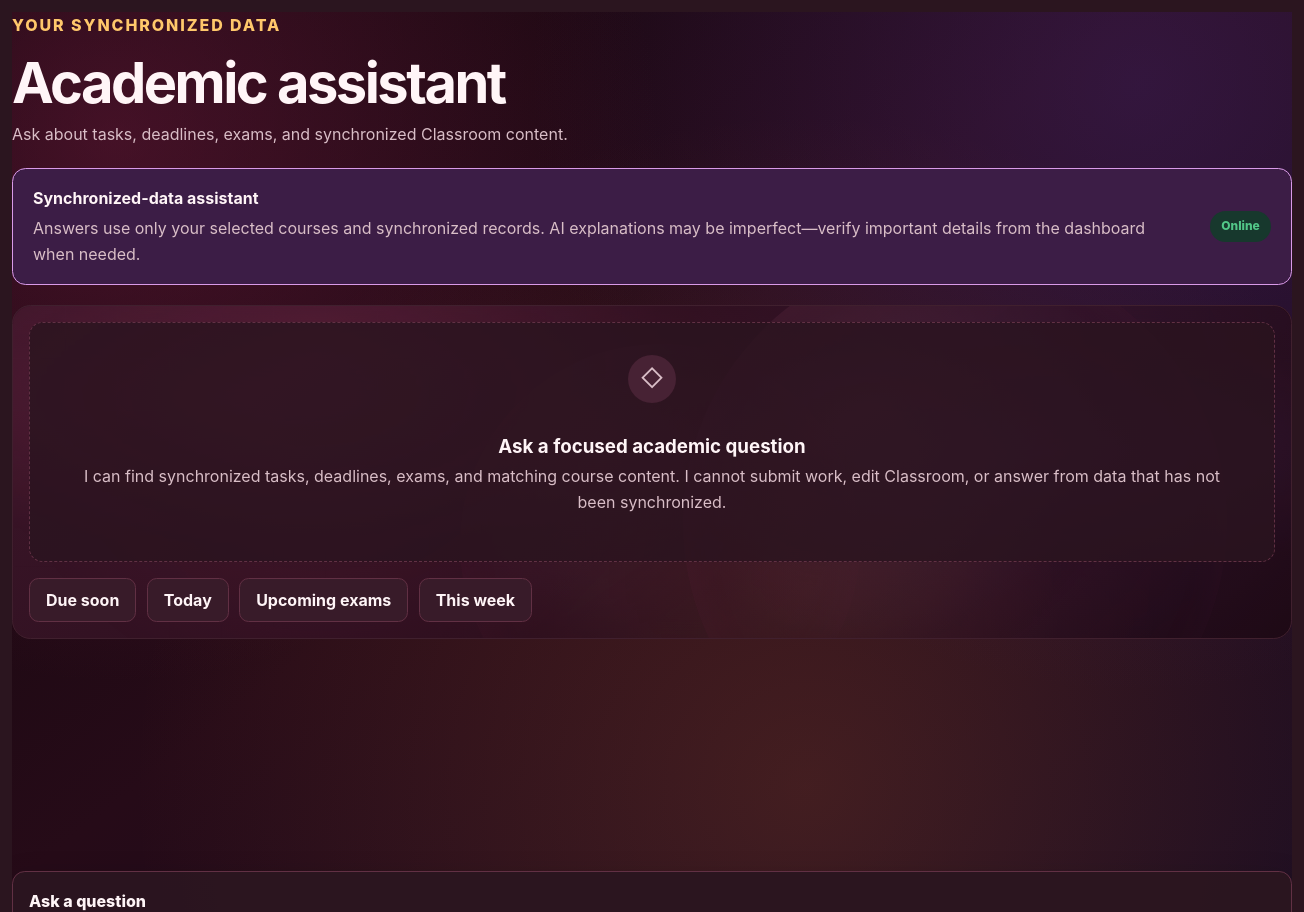
it: F8 assistant experience › clears page-session chat history visibly
The image size is (1304, 912).
Click the button "Today": coordinates (188, 600) [147,578,229,622]
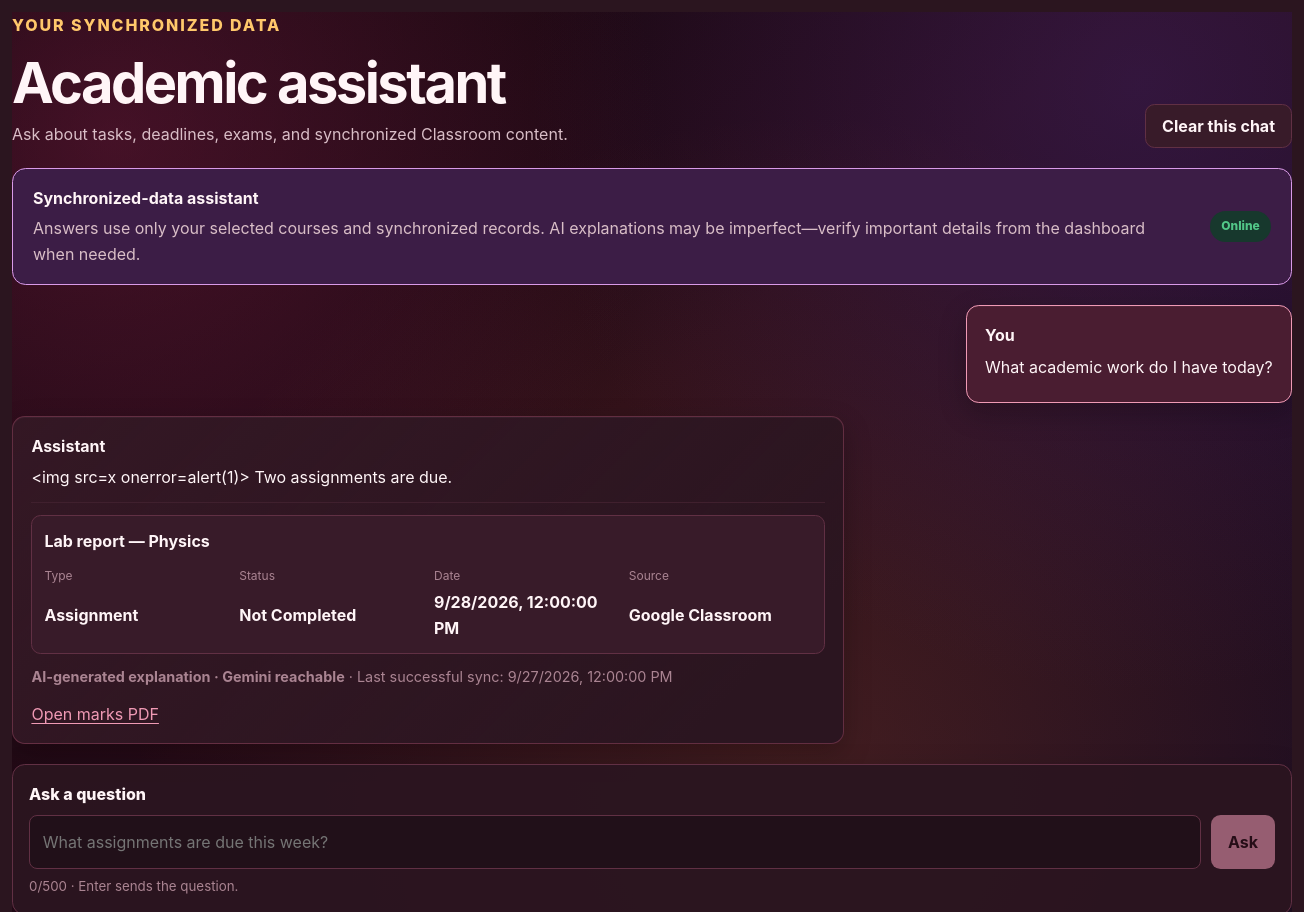
Check: the text "<img src=x onerror=alert(1)> Two assignments are due." is shown, box [31,467,452,487]
Click the button "Clear this chat": coordinates (1219, 126) [1145,104,1292,148]
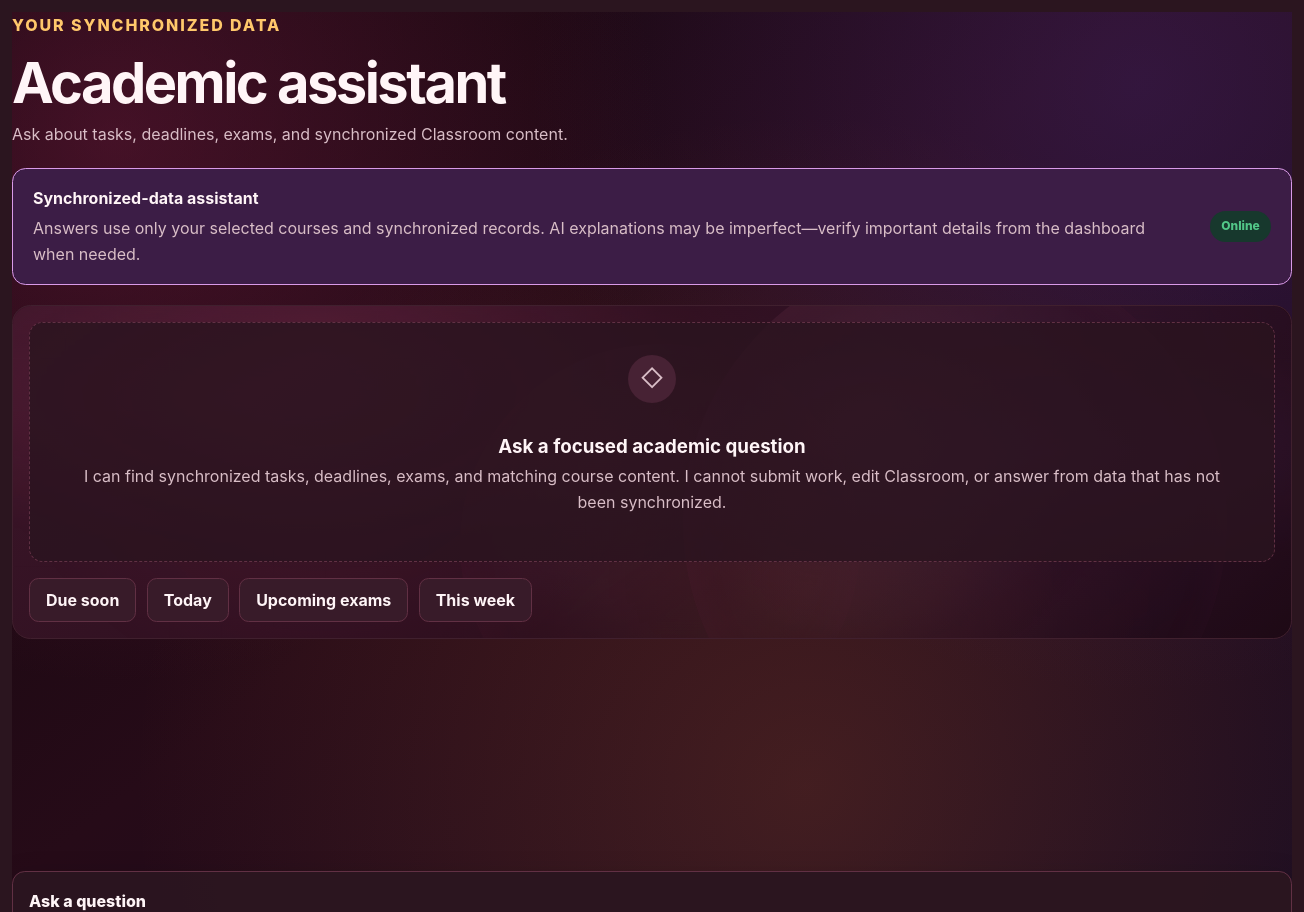
Check: the text "Two assignments are due" is gone
Check: the heading "Ask a focused academic question" is shown, box [498,435,806,458]
